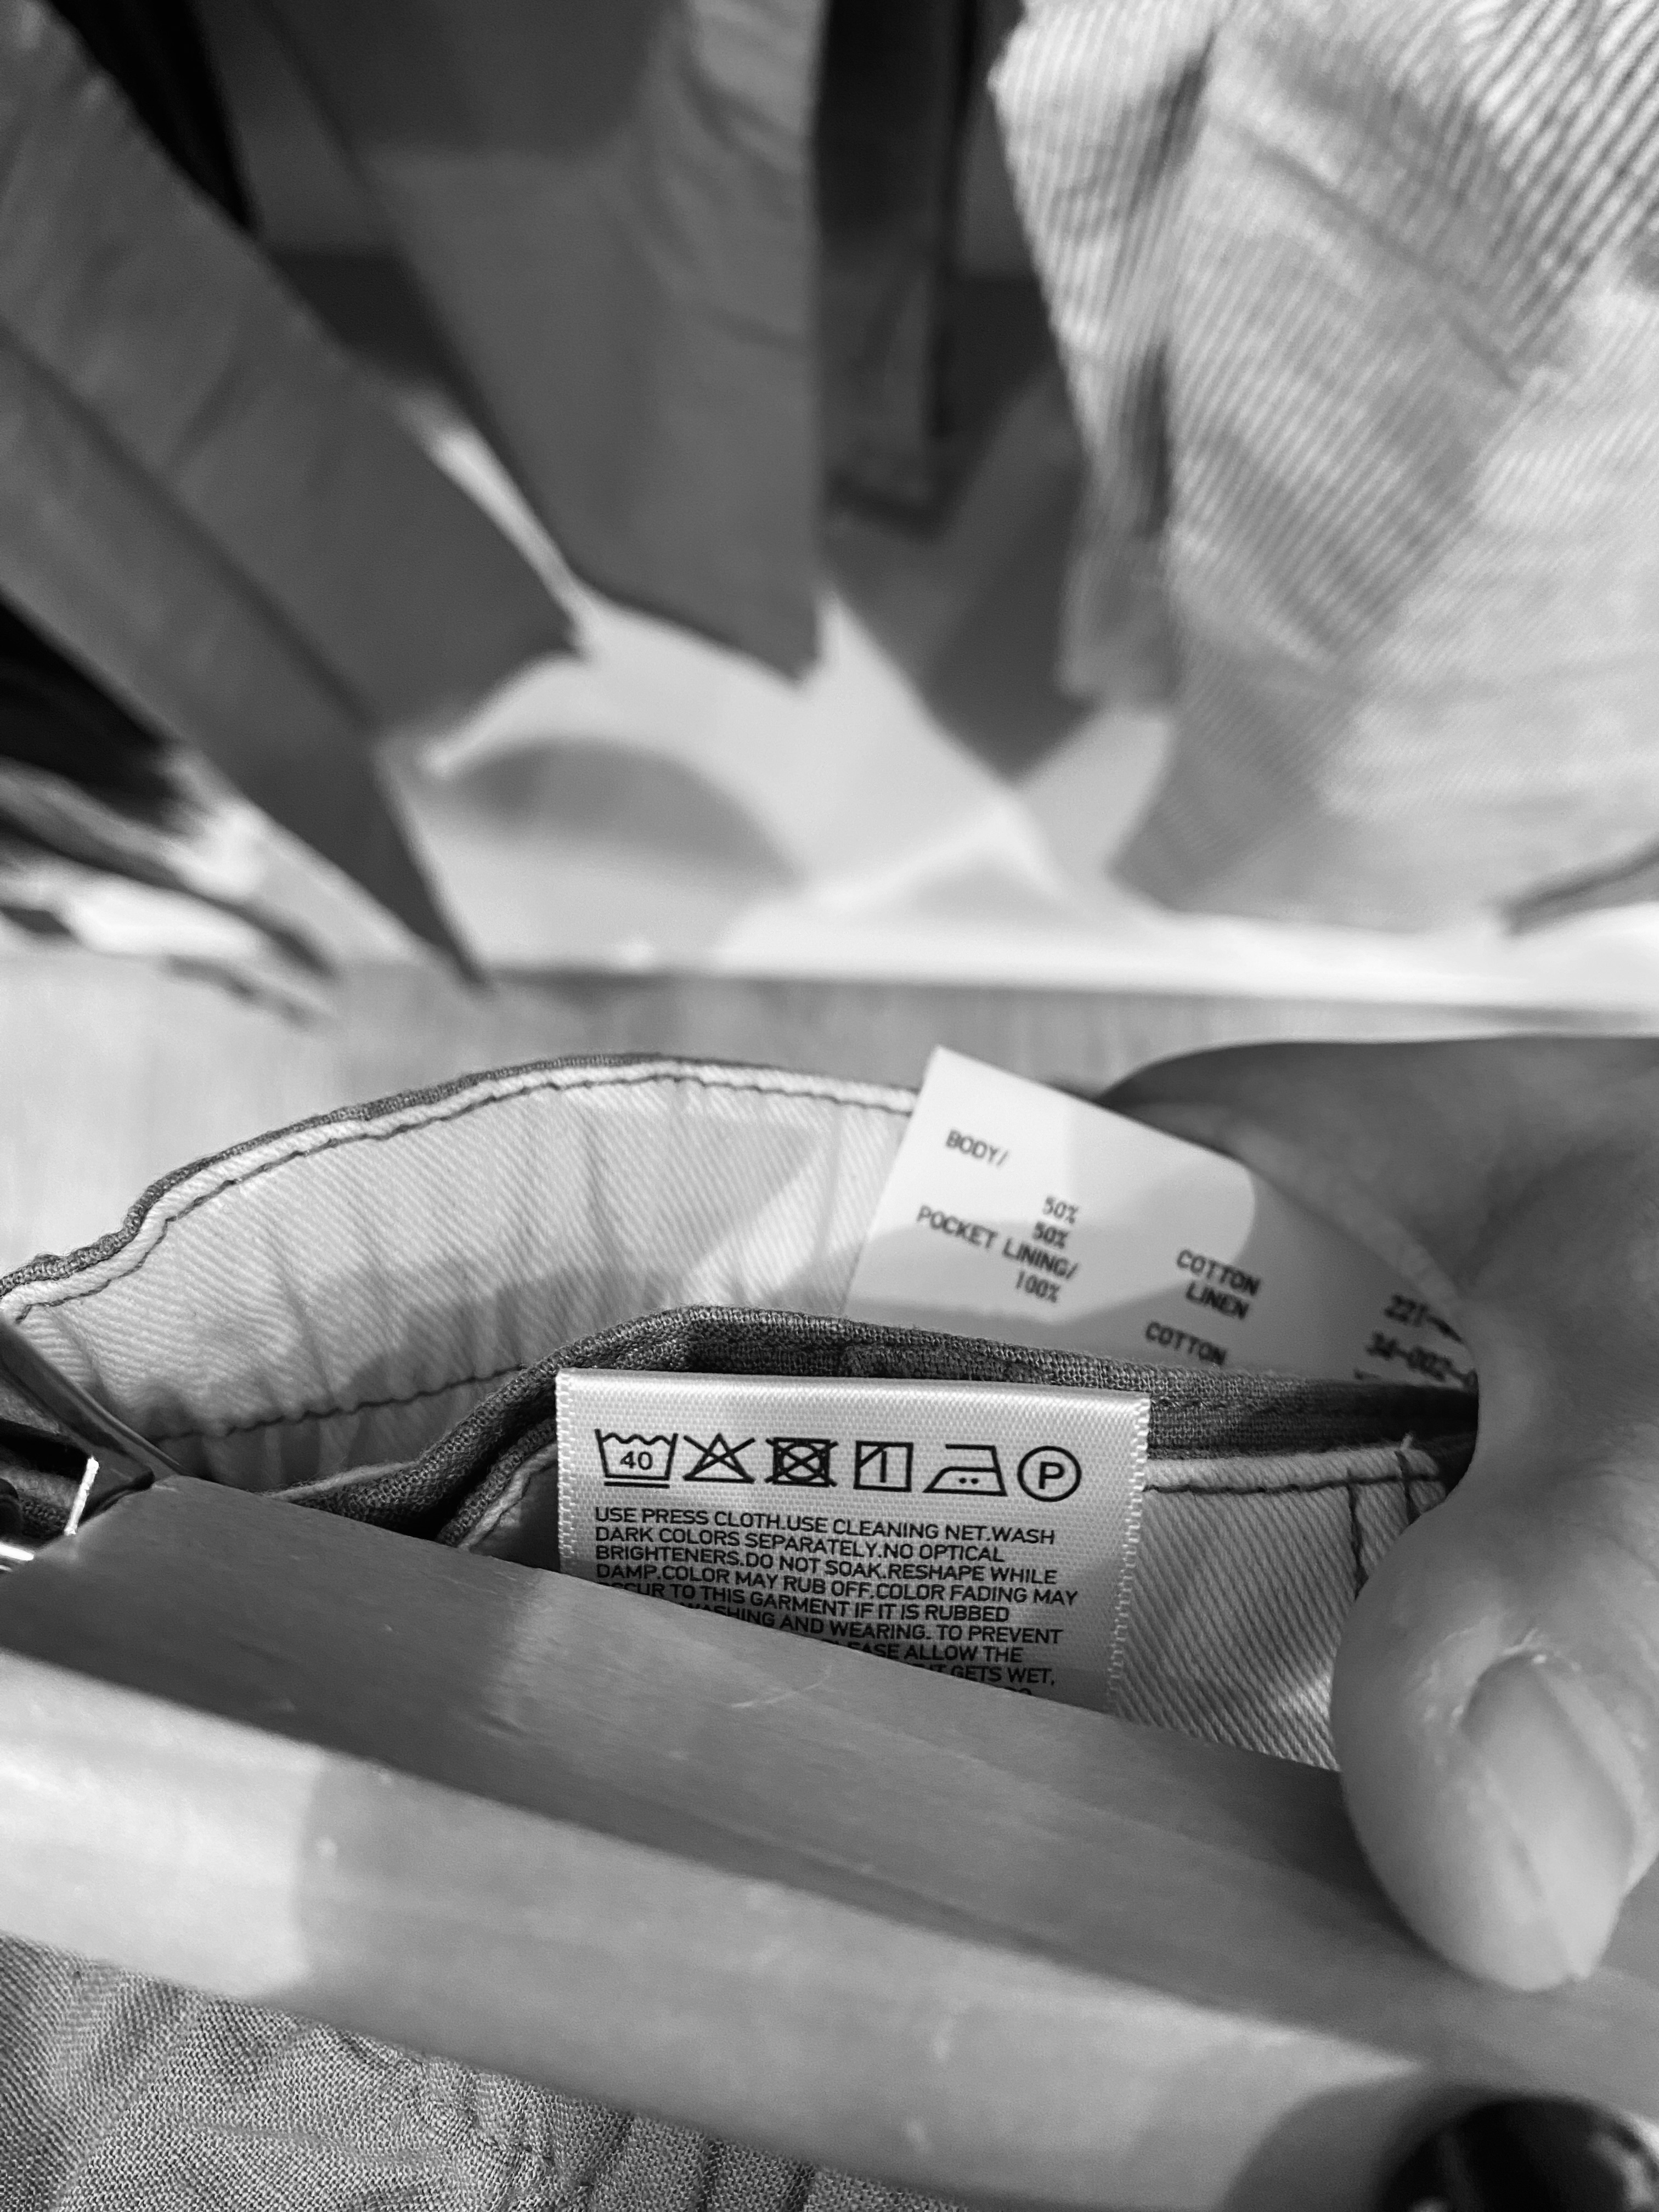icon: (587, 1425, 681, 1491), (922, 1440, 1014, 1507), (762, 1432, 842, 1496), (845, 1435, 920, 1500), (680, 1428, 758, 1489), (1016, 1439, 1086, 1507)
